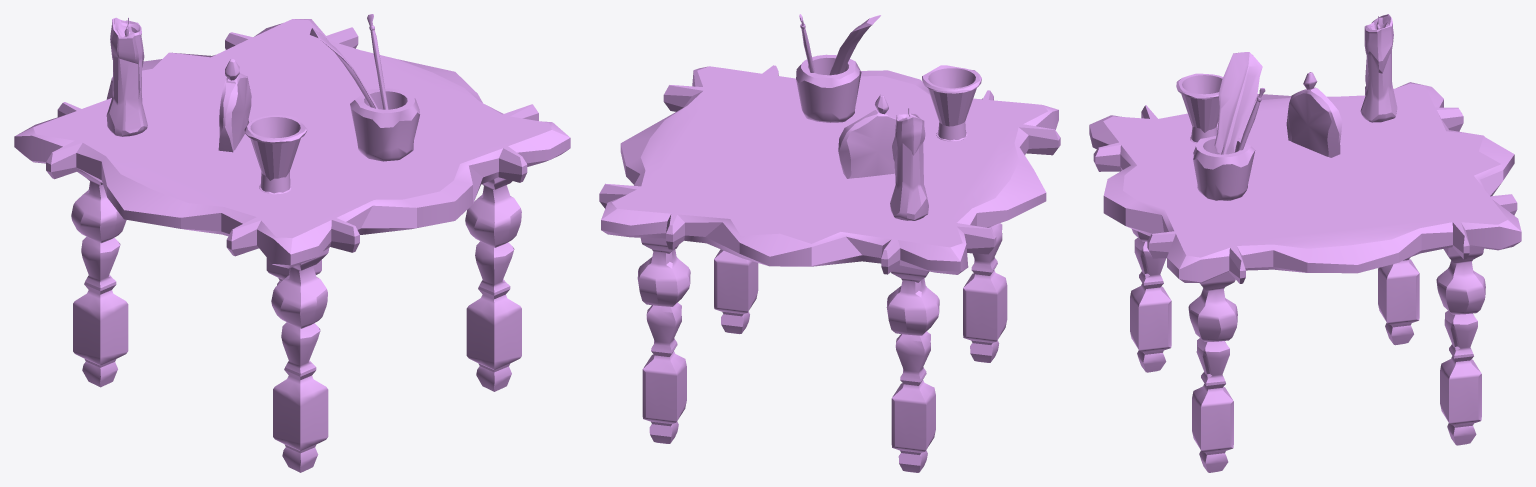
Rendered from tablecomplete.fbx.
The picture shows the model from 3 angles, left to right: view 1: azimuth 30°, elevation 25°; view 2: azimuth 150°, elevation 25°; view 3: azimuth 270°, elevation 25°; orthographic projection. The views are drawn at different scales.
Parts seen in each view (by area): view 1: table, pot3, BougieA1, verre1, parfum, Feather, BrushA; view 2: table, pot3, parfum, BougieA1, verre1, Feather; view 3: table, parfum, Feather, BougieA1, pot3, verre1.
Boxes of the visible parts, bbox=[...] form: table: bbox=[14, 19, 570, 472]; pot3: bbox=[350, 88, 420, 161]; BougieA1: bbox=[106, 17, 147, 136]; verre1: bbox=[244, 115, 307, 194]; parfum: bbox=[218, 59, 251, 152]; Feather: bbox=[310, 28, 377, 108]; BrushA: bbox=[367, 14, 388, 109]; table: bbox=[599, 65, 1060, 472]; pot3: bbox=[796, 54, 861, 122]; parfum: bbox=[838, 95, 896, 178]; BougieA1: bbox=[890, 108, 928, 220]; verre1: bbox=[922, 65, 981, 141]; Feather: bbox=[829, 15, 880, 75]; table: bbox=[1089, 82, 1521, 472]; parfum: bbox=[1286, 72, 1342, 157]; Feather: bbox=[1214, 52, 1262, 154]; BougieA1: bbox=[1360, 14, 1397, 122]; pot3: bbox=[1193, 136, 1255, 200]; verre1: bbox=[1176, 73, 1223, 143].
Size of the model in its own units: 9.74 by 8.54 by 9.64.
